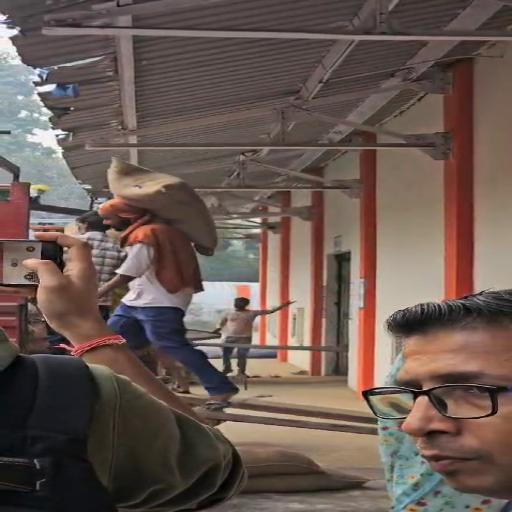bag: (102, 148, 224, 258)
